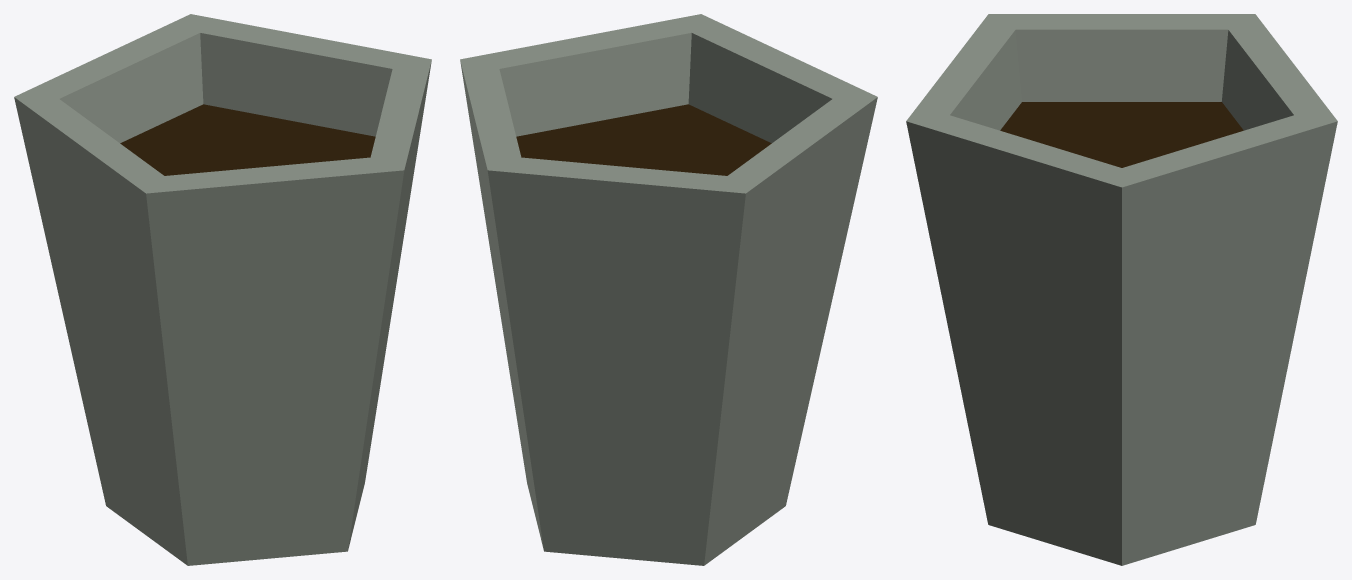
The model's file is cup_full_2.fbx.
3 views of the same model, side by side, from view 1: azimuth 30°, elevation 25°; view 2: azimuth 150°, elevation 25°; view 3: azimuth 270°, elevation 25° (orthographic).
Visible parts, largest first — view 1: cup_full_2; view 2: cup_full_2; view 3: cup_full_2.
Boxes of the visible parts, left/top/right/bottom form: cup_full_2: left=14, top=14, right=431, bottom=565; cup_full_2: left=460, top=14, right=877, bottom=565; cup_full_2: left=906, top=14, right=1337, bottom=565.
Bounding box in the file's own units: 0.6046 × 0.6685 × 0.6358.
